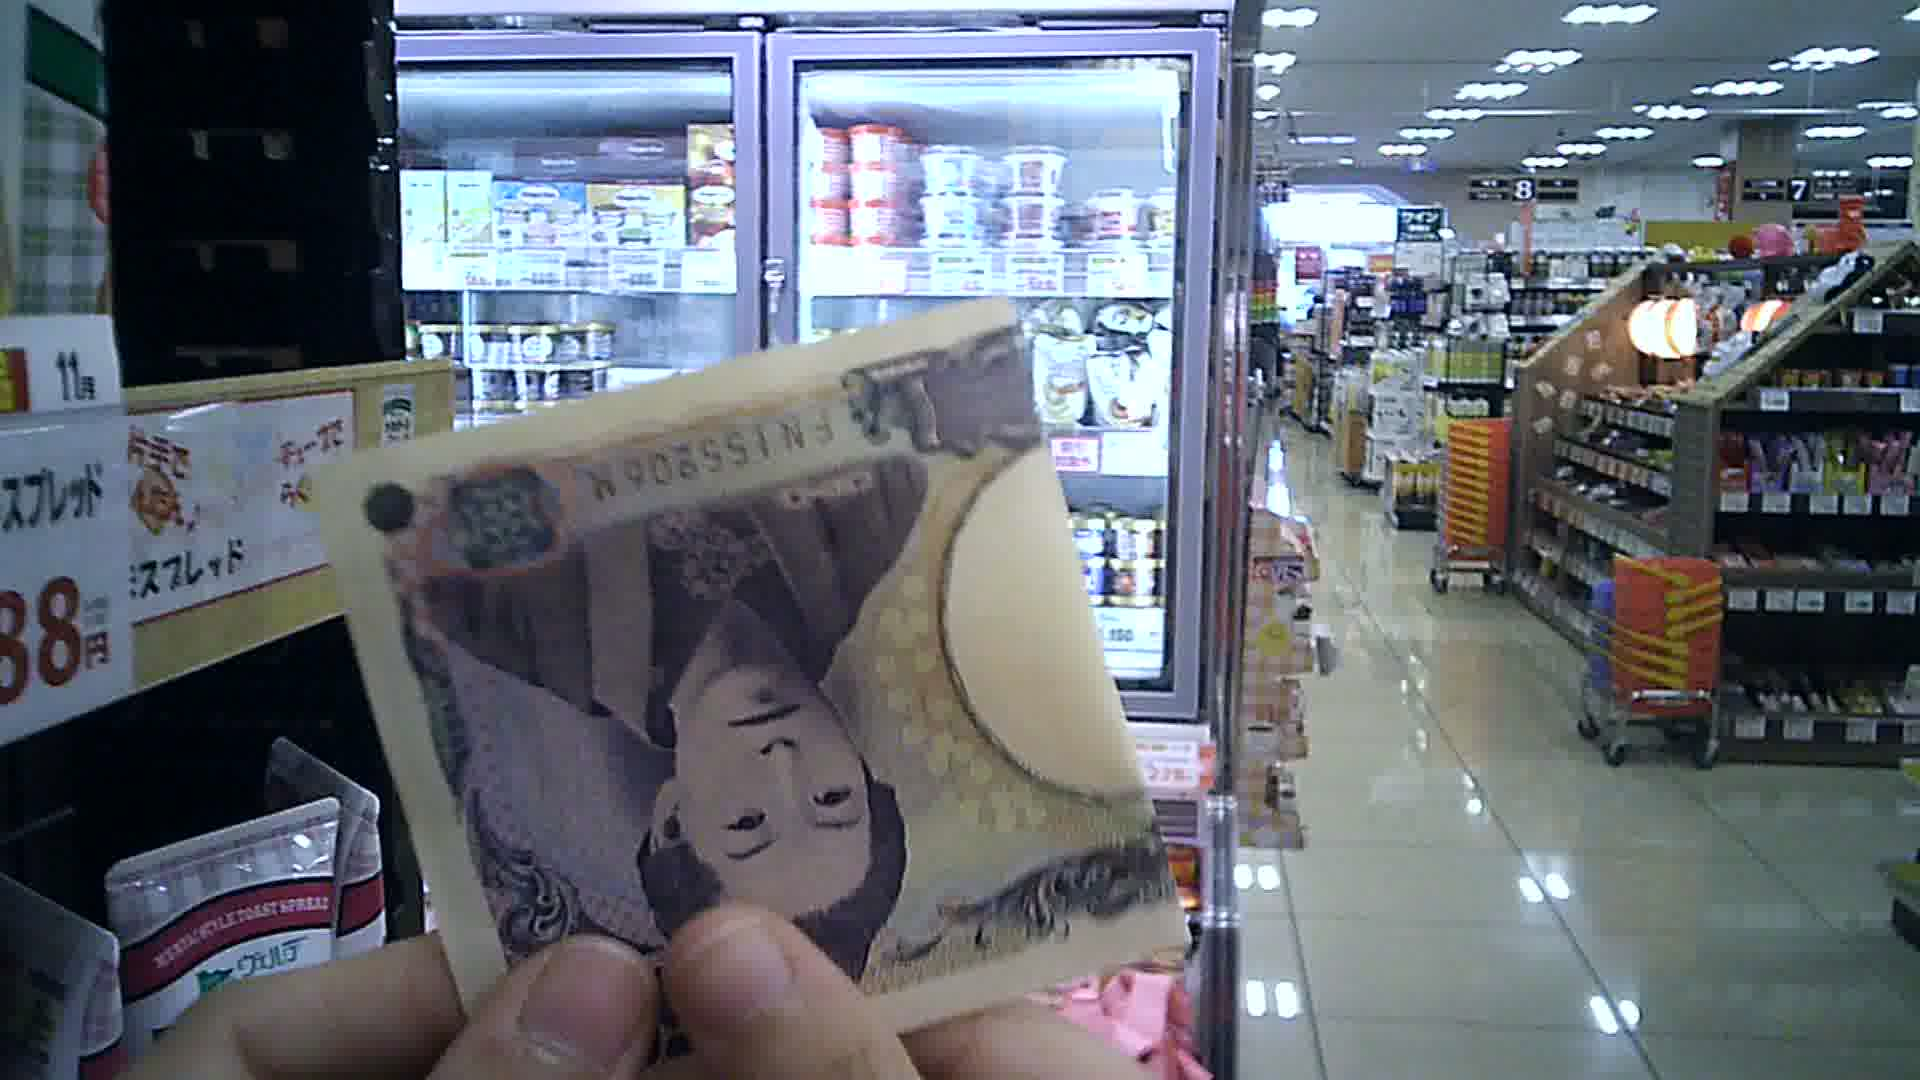5,000 Yen: (315, 301, 1193, 1048)
